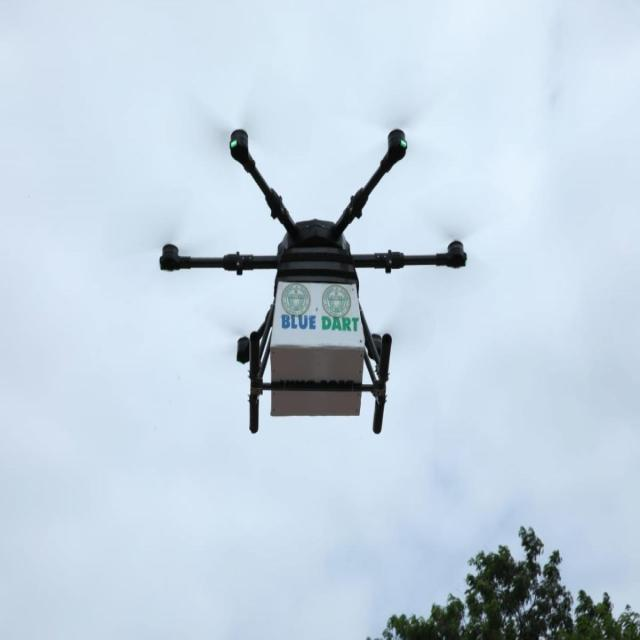drones: (147, 110, 488, 444)
